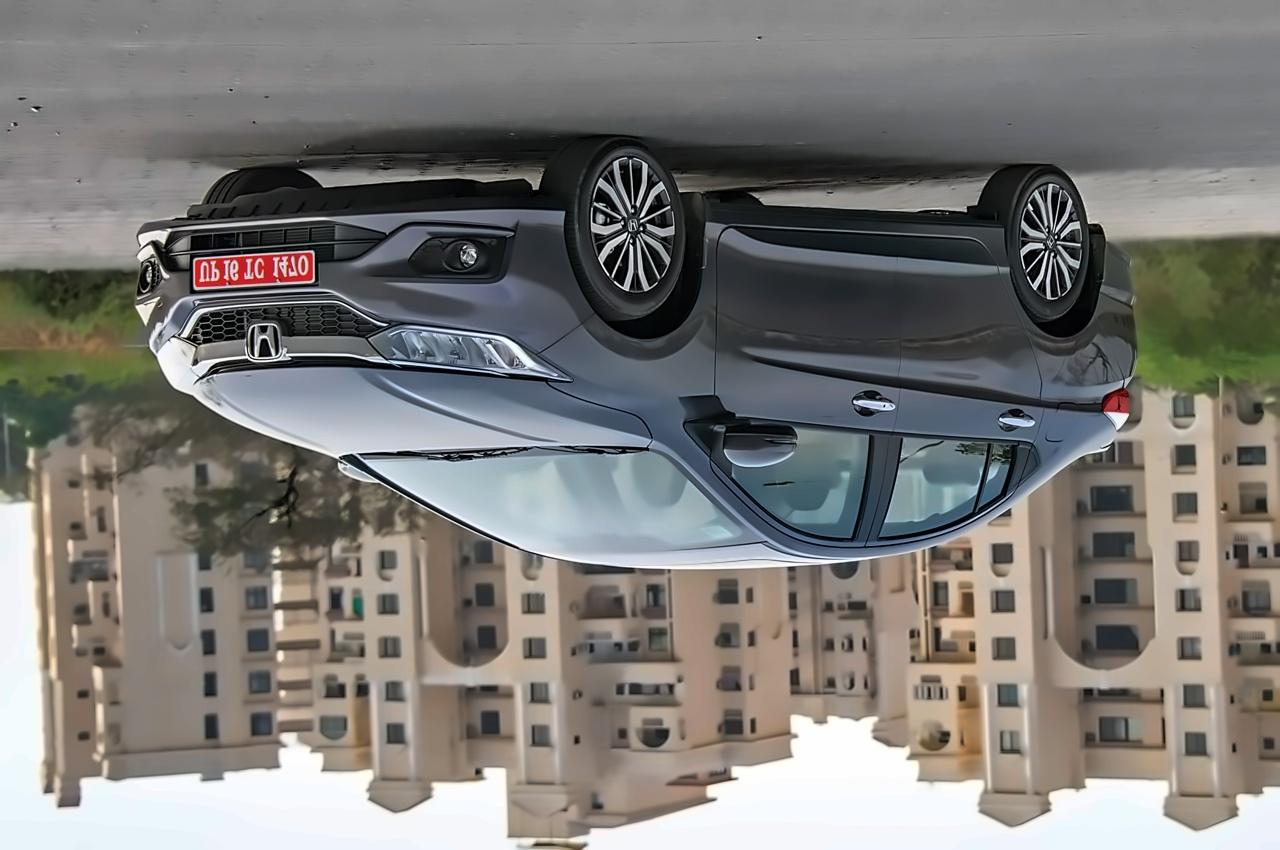Car hood: (183, 363, 660, 463)
Driver-s door - -F-R-: (719, 222, 900, 562)
Fender - -F-R-: (535, 213, 718, 463)
Fender - -R-R-: (1002, 219, 1122, 423)
Front bumper: (127, 193, 600, 334)
Headlight - -L-: (143, 333, 212, 397)
Headlight - -R-: (357, 316, 576, 386)
Passenger-s door - -R-R-: (900, 226, 1043, 557)
Rear bumper: (1084, 219, 1151, 367)
Rear light - -R-: (1097, 379, 1142, 437)
Side bumper - -R-: (682, 190, 1009, 273)
Side mirror - -R-: (717, 412, 809, 474)
